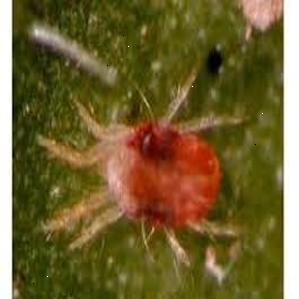spider mite: (52, 73, 246, 272)
